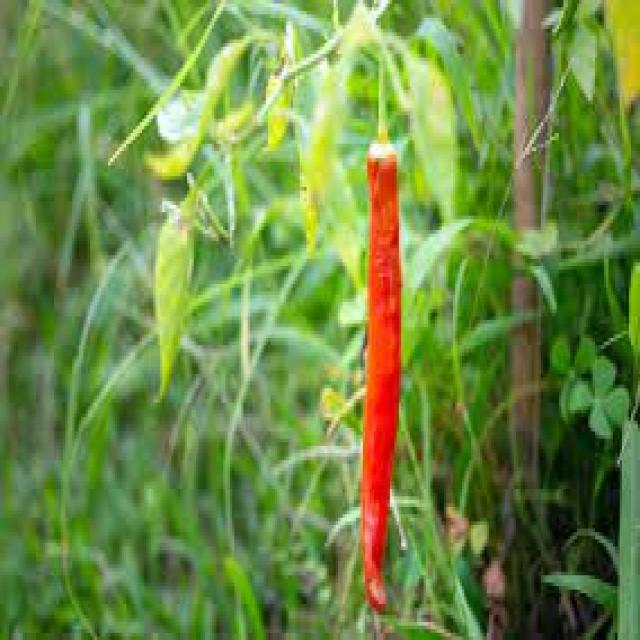chili: (360, 144, 401, 611)
